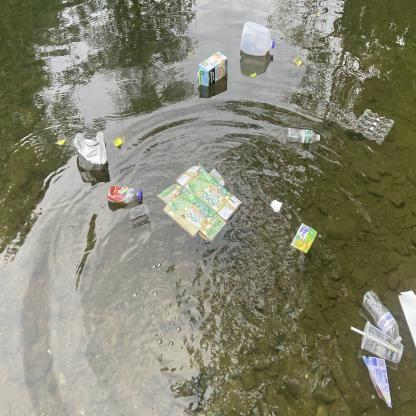Plastic: (348, 286, 403, 357), (362, 353, 393, 410), (352, 106, 396, 146), (239, 18, 275, 58), (72, 128, 109, 166), (104, 184, 144, 206), (284, 126, 324, 146)
Trash: (396, 287, 416, 348), (268, 197, 284, 216)
